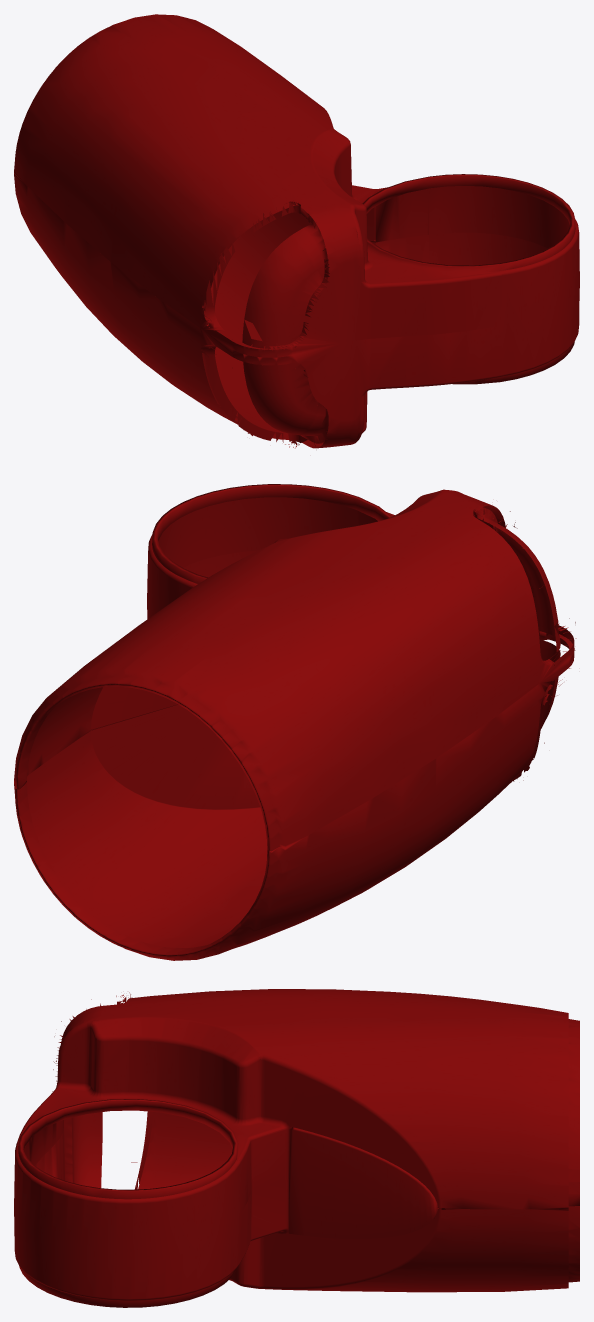
3 renders of one model, top to bottom at view 1: azimuth 30°, elevation 25°; view 2: azimuth 150°, elevation 25°; view 3: azimuth 270°, elevation 25°, orthographic. The views are drawn at different scales.
Bounding box in the file's own units: 0.2245 × 0.1586 × 0.3134.
